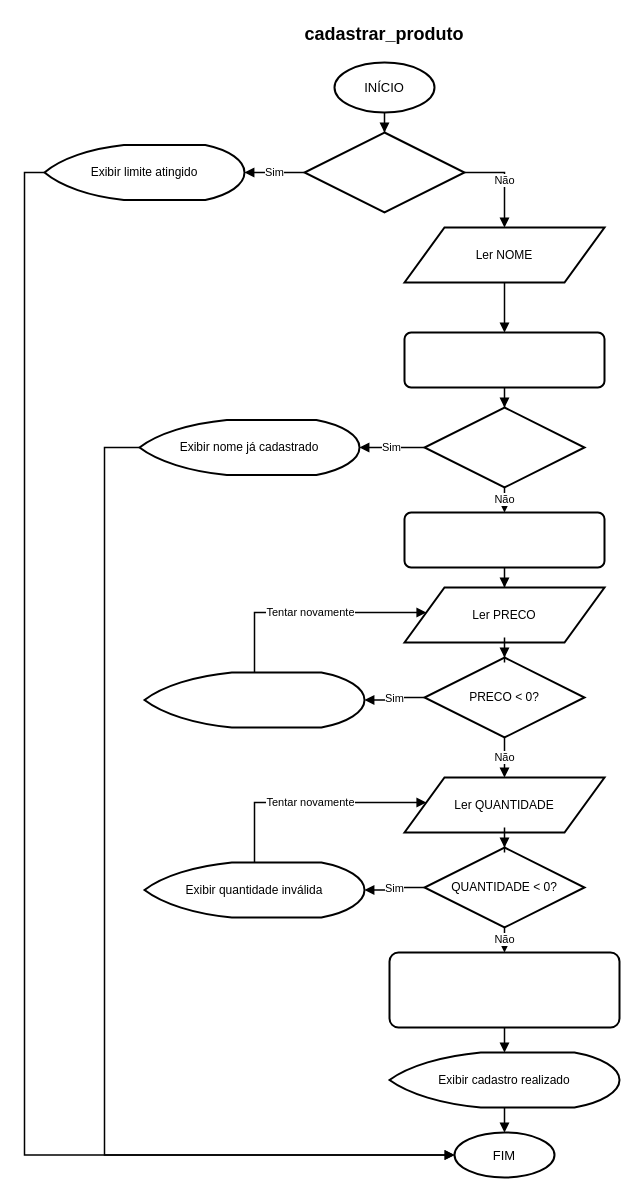
Image size: 642x1195. Some labels were removed from this diagram. Here are the shapes that lost their labels. From the top down, the centre of each, then its label:
At [384,172]: "TOTAL_PRODUTOS = 100?".
At [504,359]: "POSICAO ← buscar_produto(NOME)".
At [504,447]: "POSICAO <> -1?".
At [504,539]: "CATEGORIA ← ler_categoria()".
At [254,699]: "Exibir preço inválido".
At [504,989]: "Incrementar TOTAL_PRODUTOS Armazenar nome, categoria, preço e quantidade".
